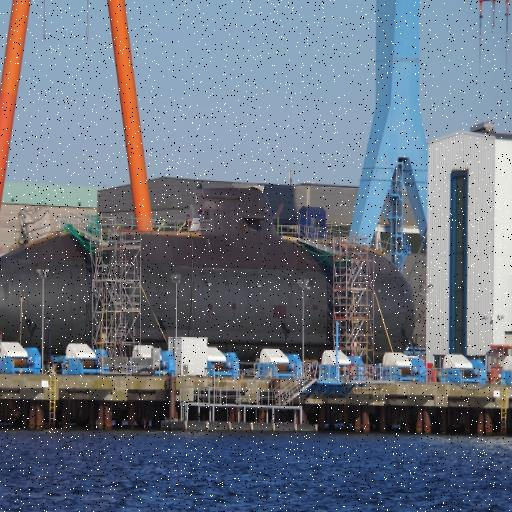submarine: (1, 184, 414, 357)
